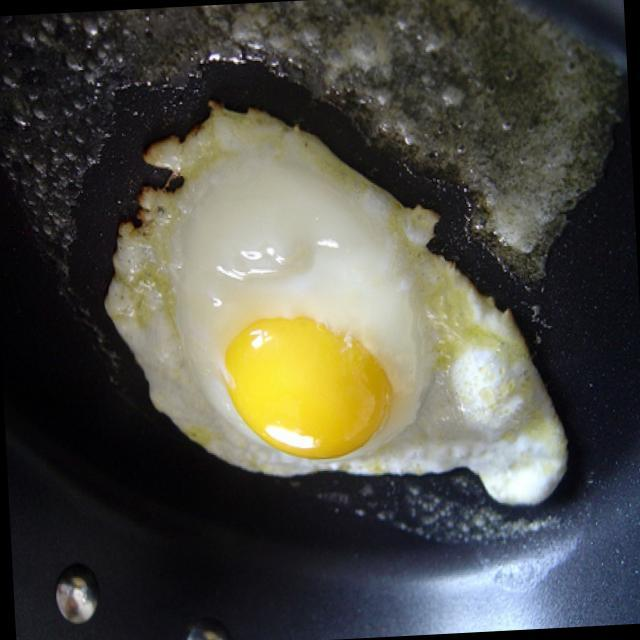Egg: (90, 88, 580, 548)
